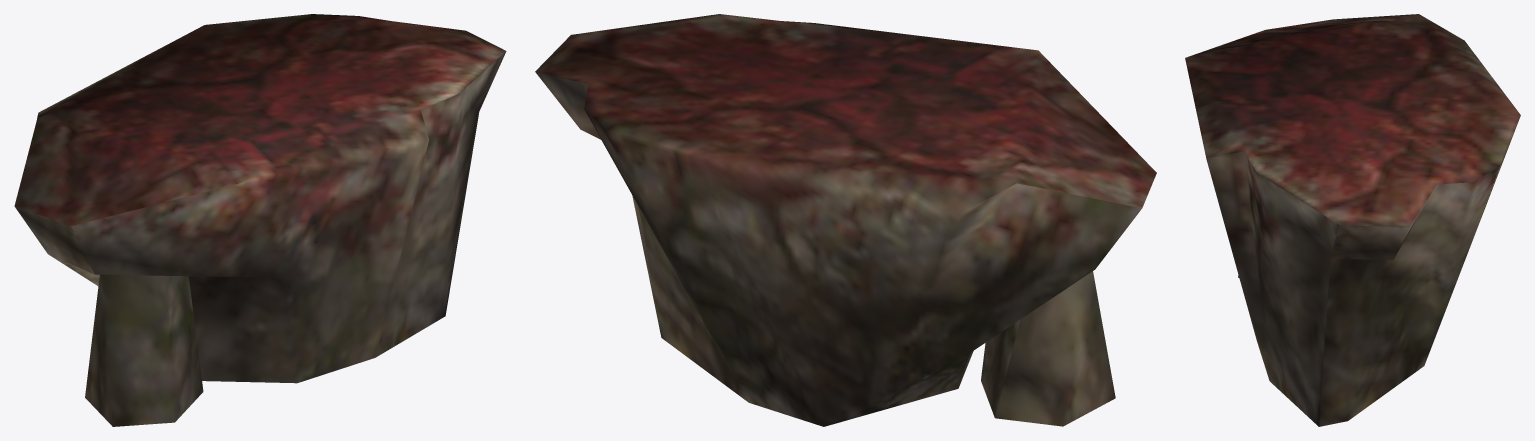
The model's file is Camp6.fbx.
3 views of the same model, side by side, from view 1: azimuth 30°, elevation 25°; view 2: azimuth 150°, elevation 25°; view 3: azimuth 270°, elevation 25° (orthographic). The views are drawn at different scales.
Visible parts, largest first — view 1: Camp6; view 2: Camp6; view 3: Camp6.
Part boxes in pixels (left/top/right/bottom): Camp6: left=14, top=14, right=506, bottom=426; Camp6: left=535, top=14, right=1156, bottom=426; Camp6: left=1185, top=14, right=1520, bottom=426.
Bounding box in the file's own units: 42.37 × 20.44 × 25.34.
